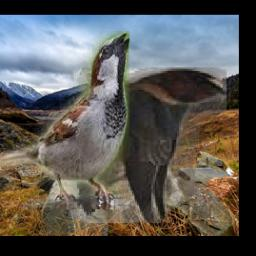Sparrow: (0, 31, 130, 209)
Swallow: (69, 67, 226, 223)
